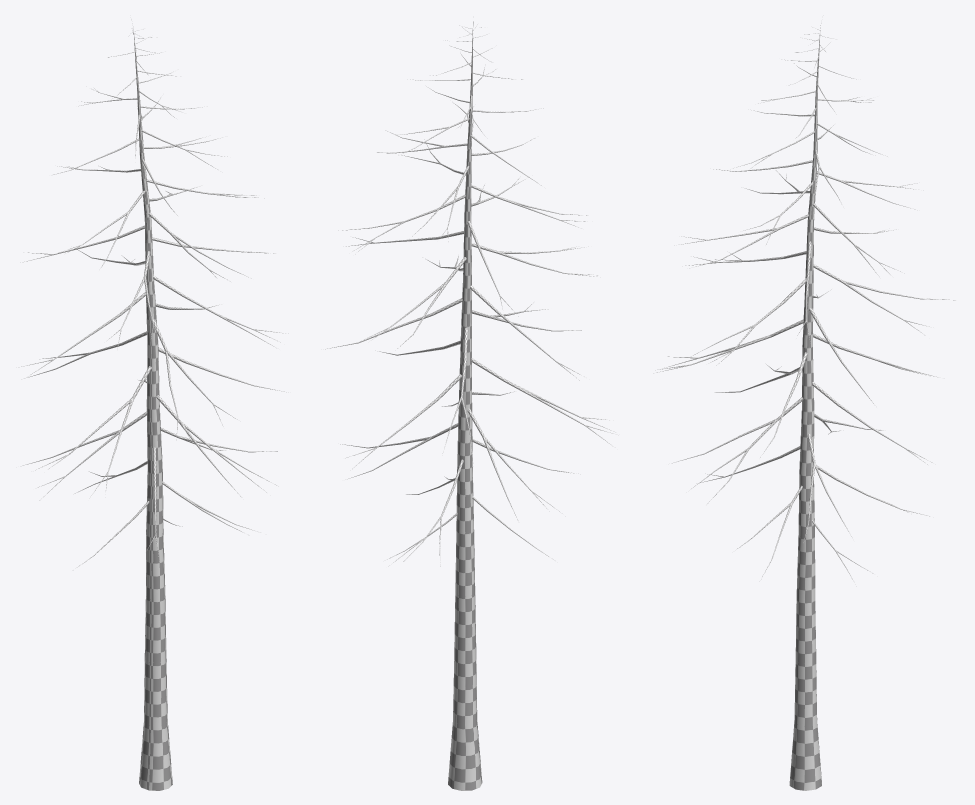
File: trunk.glb
3 renders of one model, left to right at view 1: azimuth 30°, elevation 25°; view 2: azimuth 150°, elevation 25°; view 3: azimuth 270°, elevation 25°, orthographic. The views are drawn at different scales.
Visible parts, largest first — view 1: tree; view 2: tree; view 3: tree.
Part boxes in pixels (left/top/right/bottom): tree: left=18, top=19, right=288, bottom=790; tree: left=323, top=21, right=616, bottom=790; tree: left=655, top=23, right=955, bottom=790.
Size of what is drawn, in the model's own units: 16.9 by 46.2 by 17.06.
Materials: 1 (1 with a texture image).
